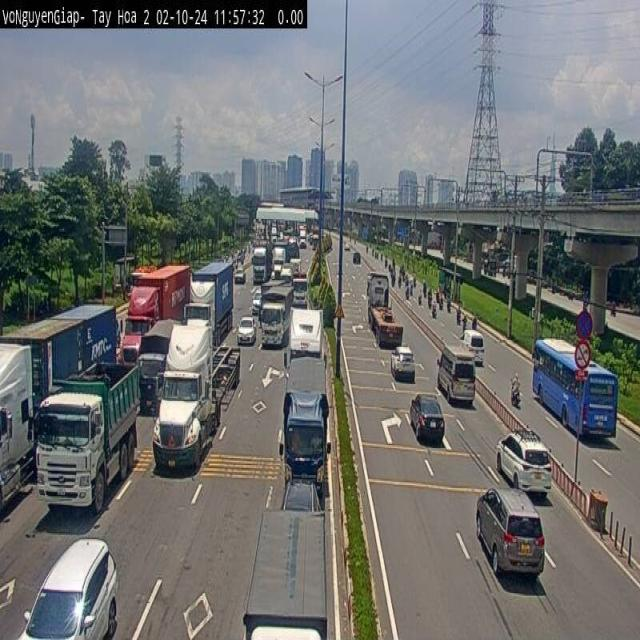bus: (532, 336, 618, 441)
car: (17, 536, 118, 639), (475, 478, 549, 587), (437, 338, 477, 408), (409, 392, 445, 443), (389, 342, 418, 382)
container-truck: (361, 269, 405, 346)
person: (510, 371, 521, 408)
truck: (33, 358, 141, 515), (240, 506, 332, 640)
